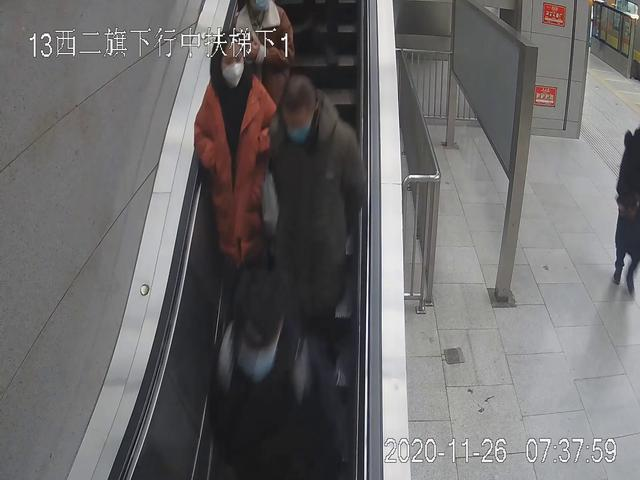person: (265, 76, 366, 357), (194, 38, 280, 323)
